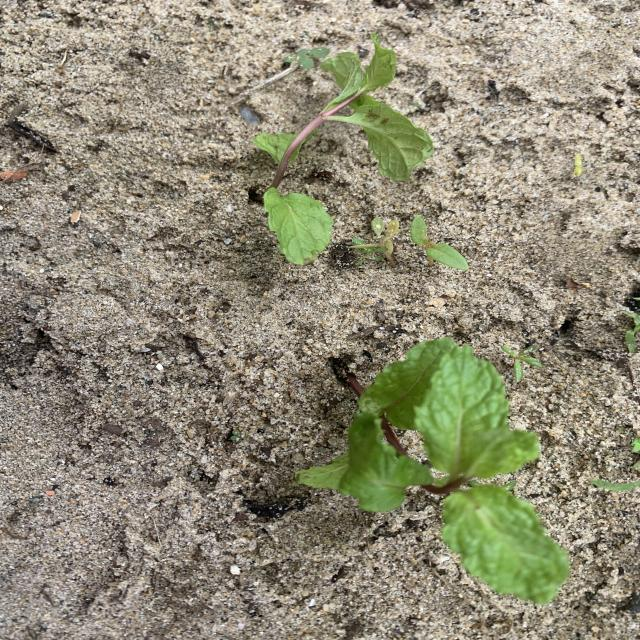crop: (315, 337, 568, 603), (253, 32, 433, 265)
weed: (410, 215, 468, 270), (349, 218, 399, 267), (501, 345, 543, 382), (295, 47, 330, 68), (624, 312, 640, 355), (590, 479, 640, 492), (574, 153, 582, 177), (525, 343, 537, 351)
